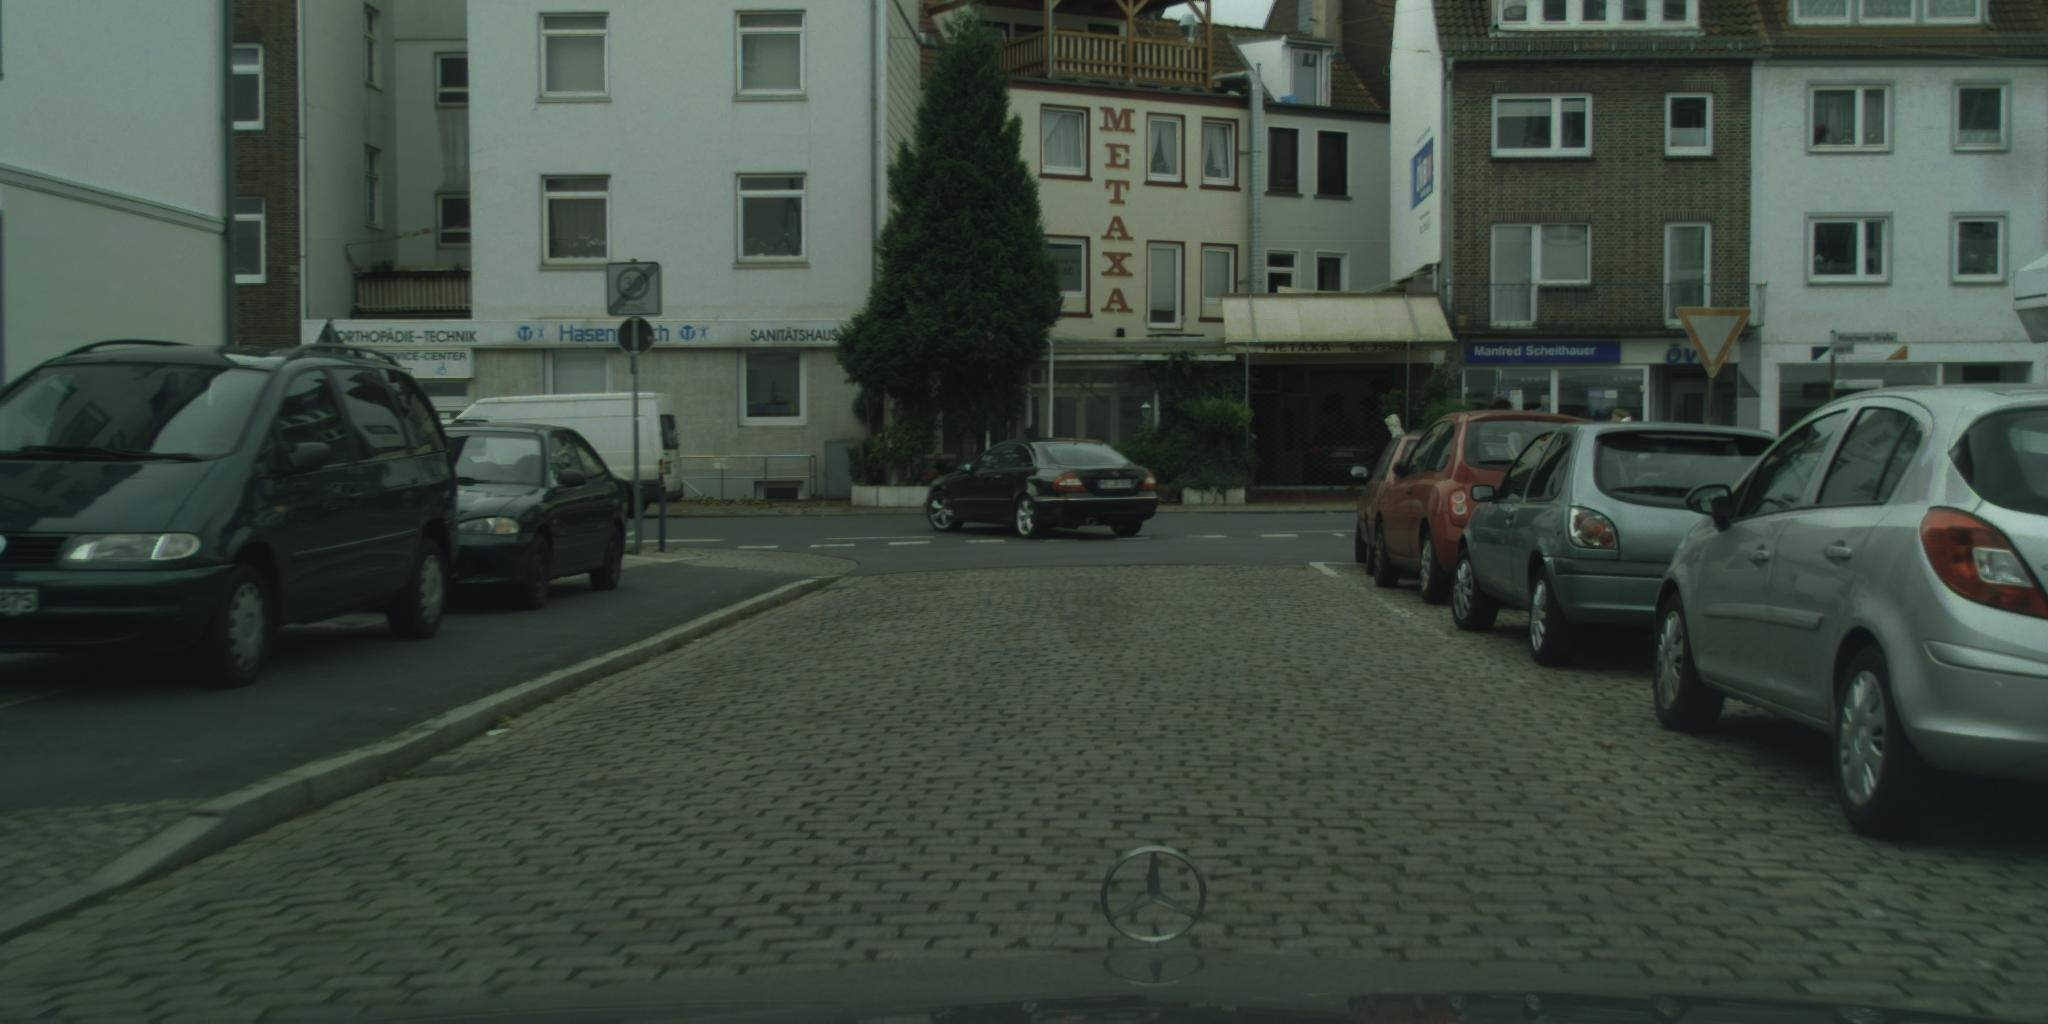car: (1651, 381, 2048, 844), (1, 340, 461, 692), (1451, 423, 1780, 667), (1371, 411, 1600, 606), (422, 423, 630, 614), (455, 392, 684, 519), (925, 438, 1159, 541), (1351, 436, 1430, 579)
